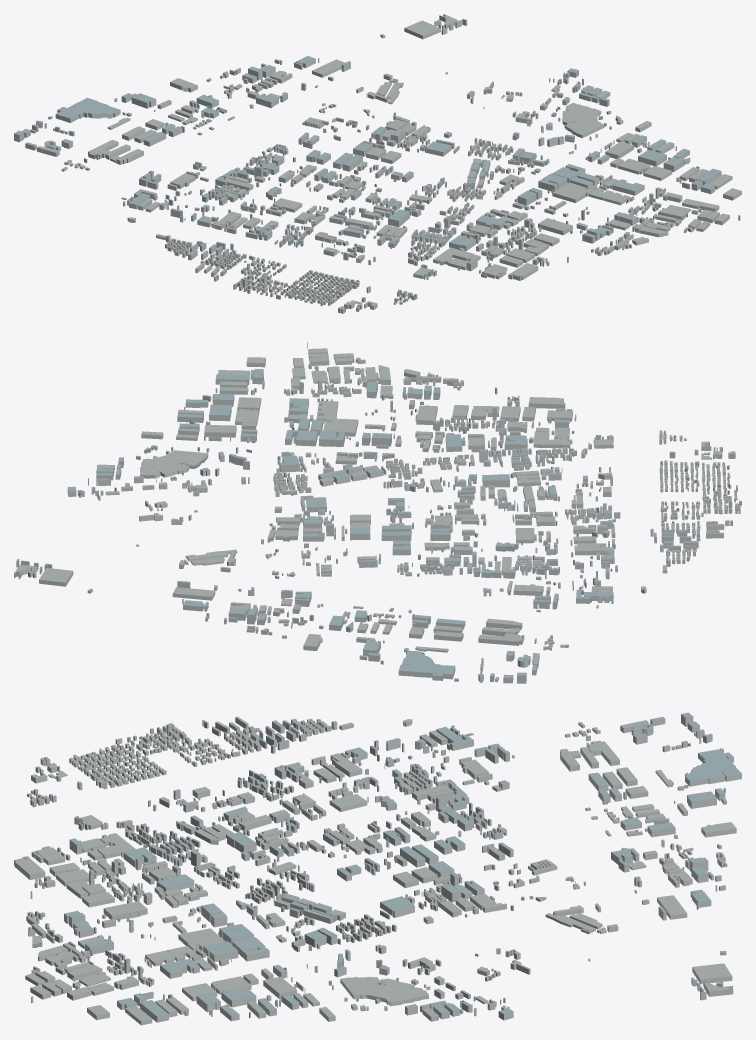
File: far.glb
3 views of the same model, one above another, from view 1: azimuth 30°, elevation 25°; view 2: azimuth 150°, elevation 25°; view 3: azimuth 270°, elevation 25° (orthographic). The views are drawn at different scales.
Size of the model in its own units: 2158 by 45.48 by 2184.
